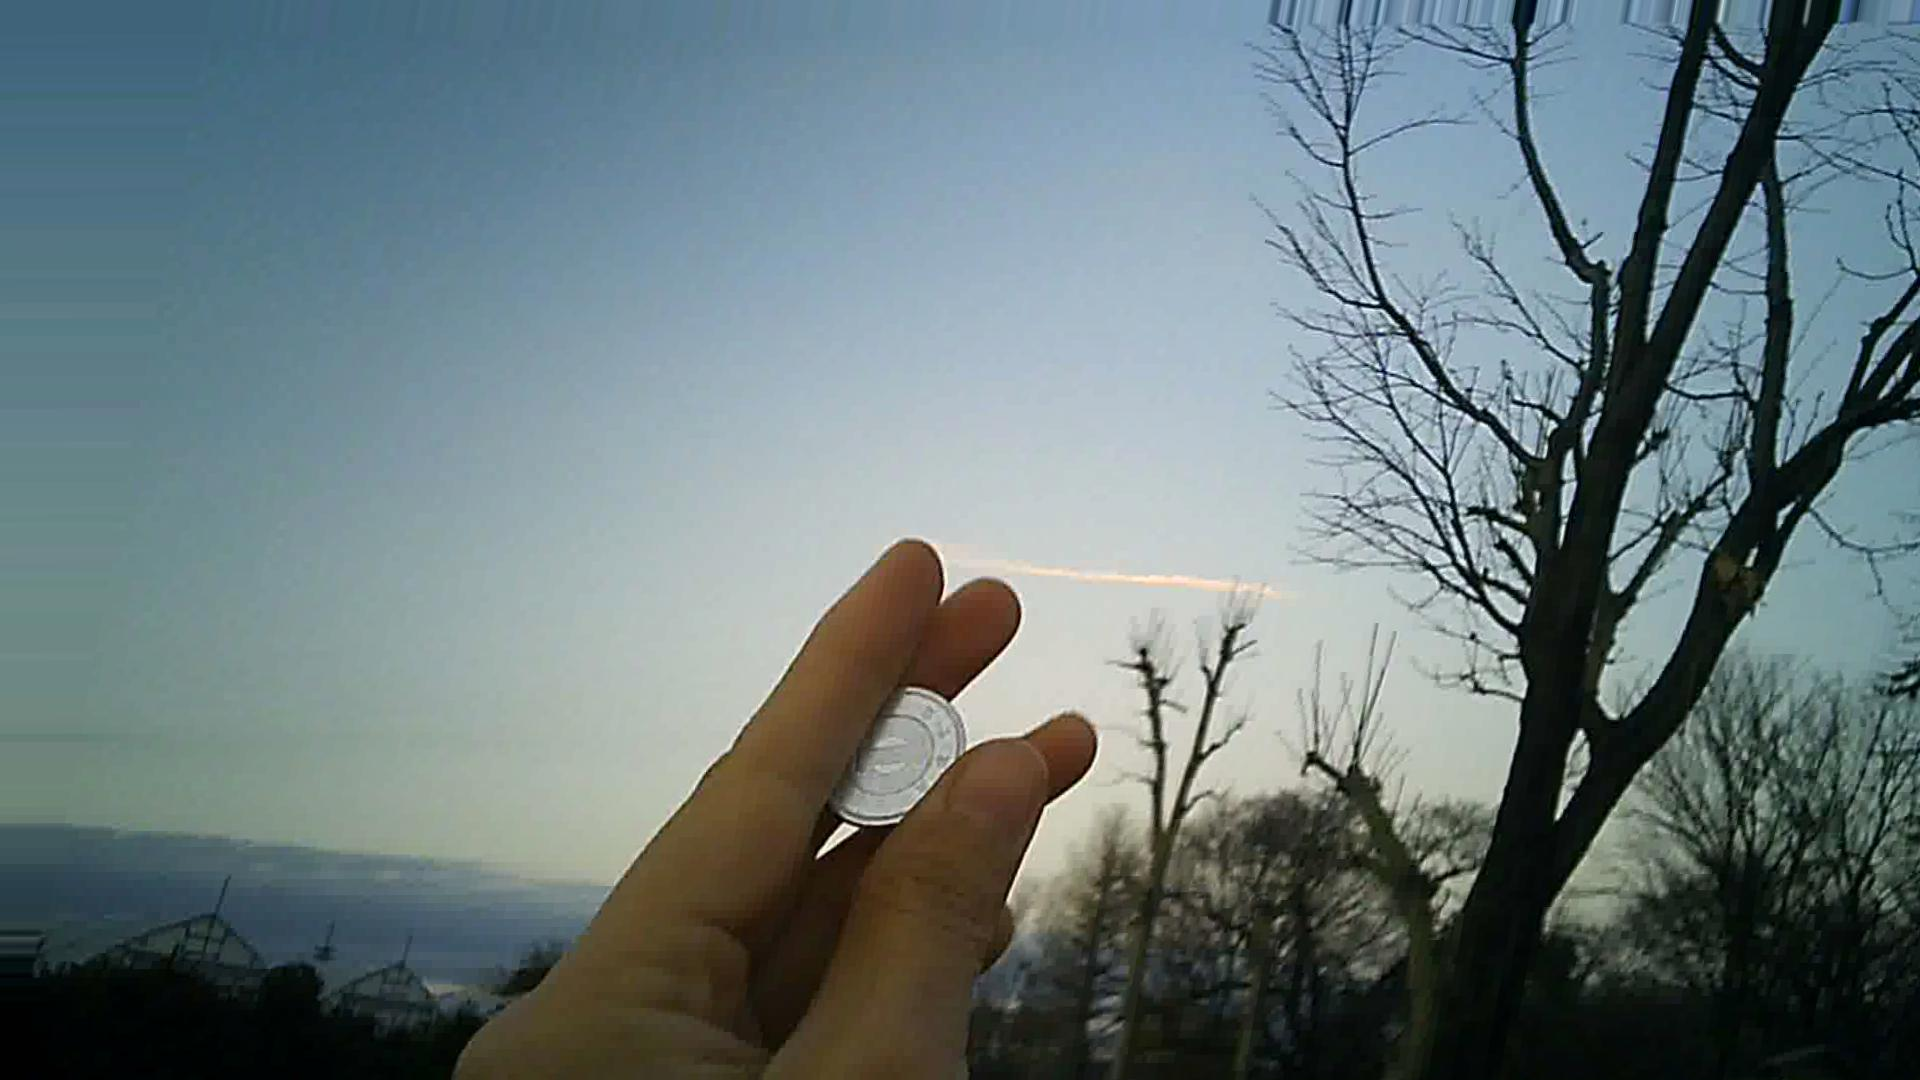1 Yen: (798, 670, 960, 827)
